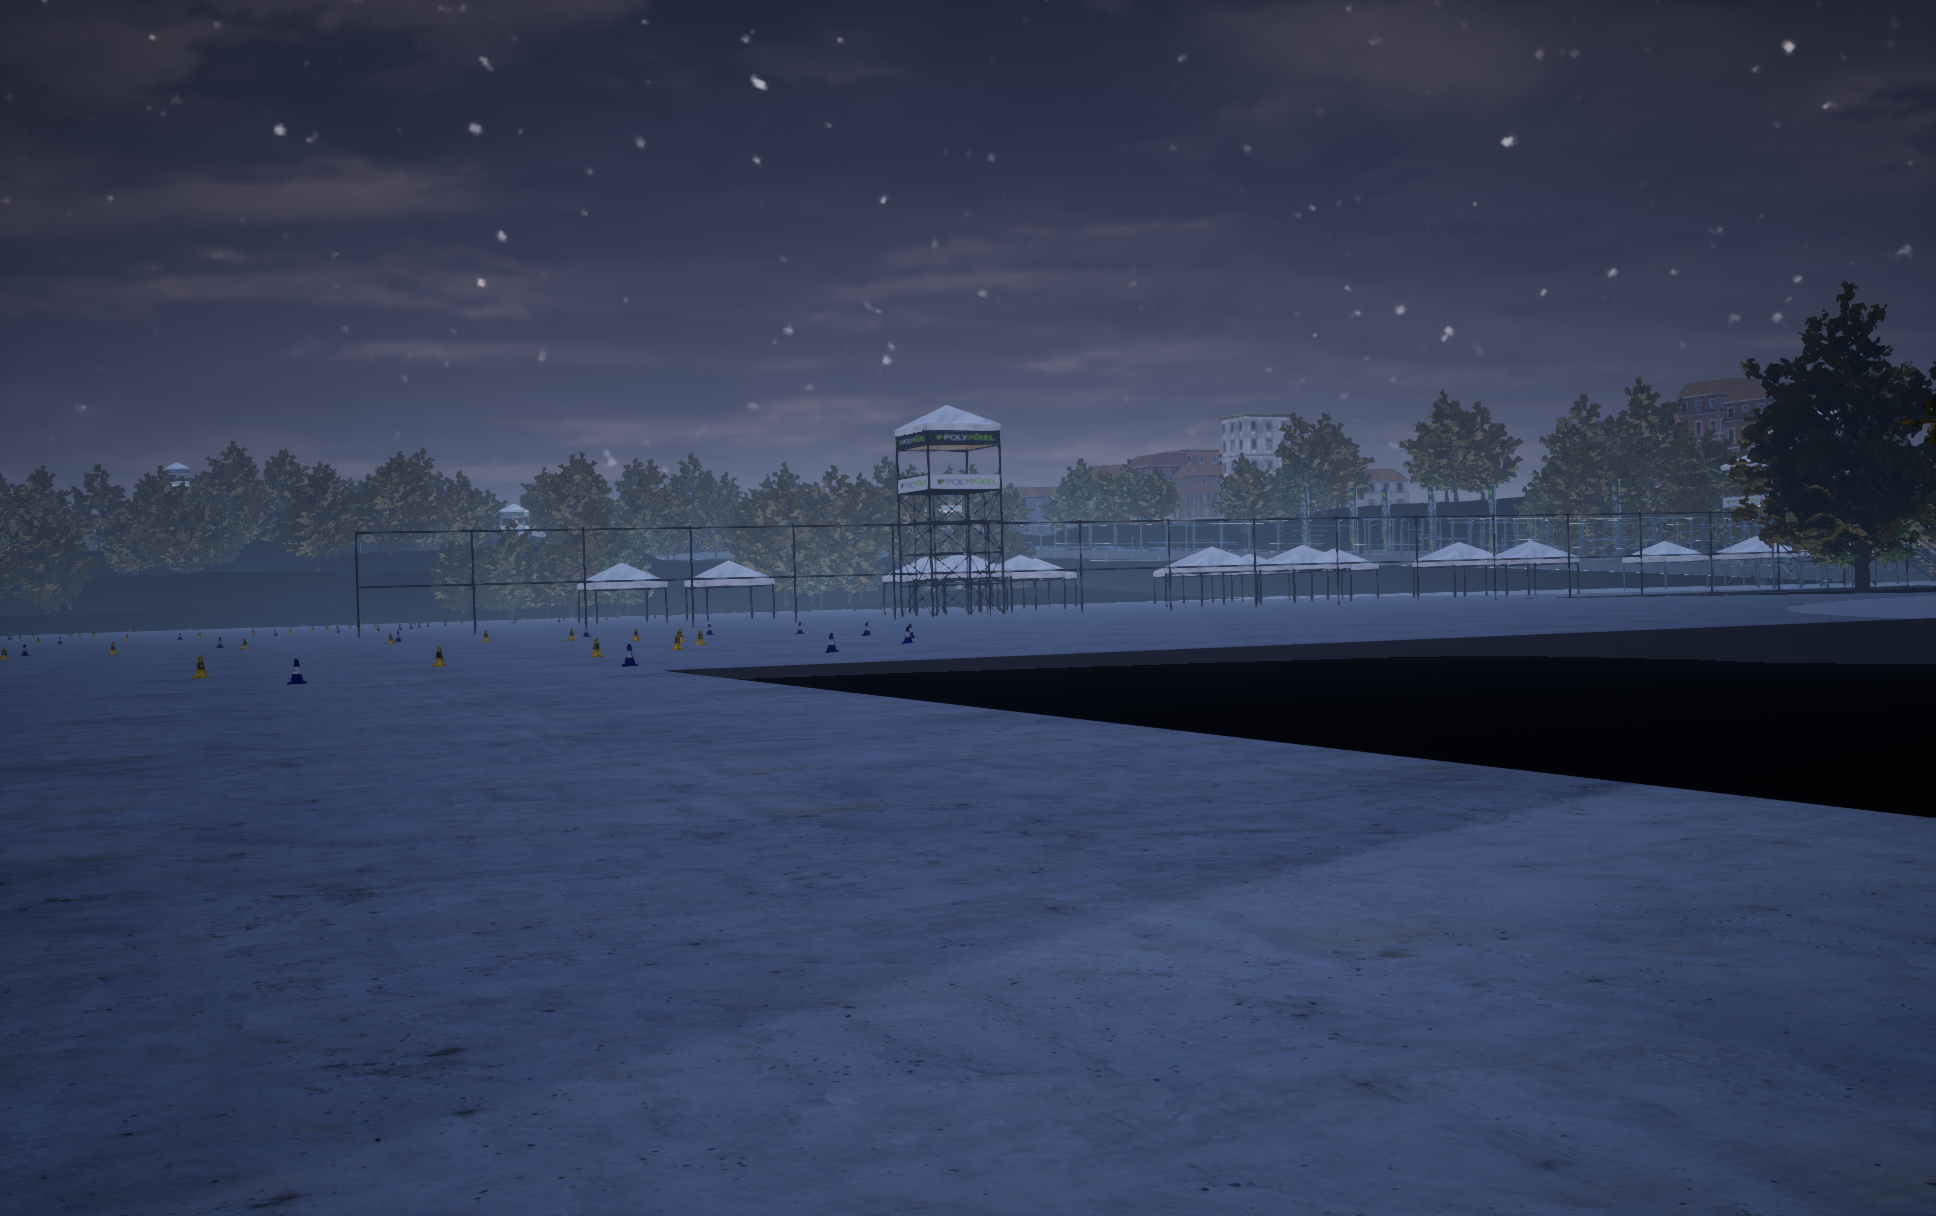blue: (192, 656, 209, 678), (431, 646, 446, 666), (590, 638, 603, 656)
yellow: (287, 659, 306, 684), (622, 644, 637, 666), (825, 633, 838, 652)
